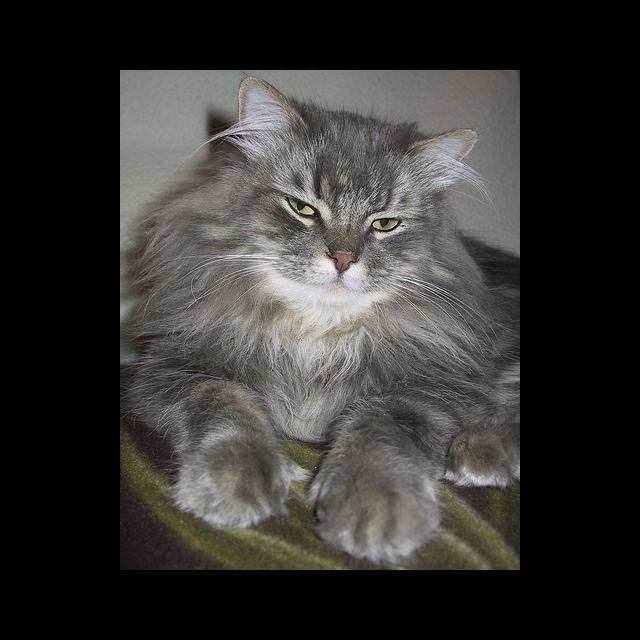animals: (247, 77, 474, 269)
